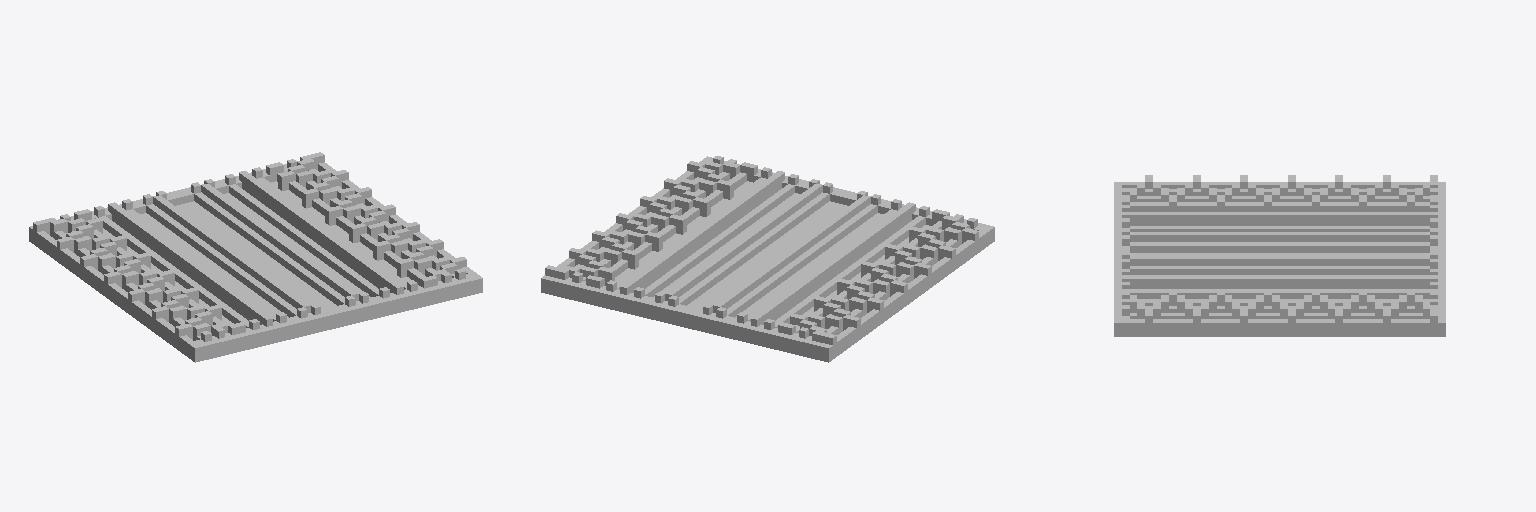
The model's file is Blue-1.obj.
The picture shows the model from 3 angles: view 1: azimuth 30°, elevation 25°; view 2: azimuth 150°, elevation 25°; view 3: azimuth 270°, elevation 25°; orthographic projection.
Parts seen in each view (by area): view 1: Blue-1; view 2: Blue-1; view 3: Blue-1.
Boxes of the visible parts, x1=… form: Blue-1: x1=29, y1=152, x2=482, y2=362; Blue-1: x1=541, y1=156, x2=994, y2=362; Blue-1: x1=1114, y1=175, x2=1445, y2=336.
Bounding box in the file's own units: 42 × 3 × 42.